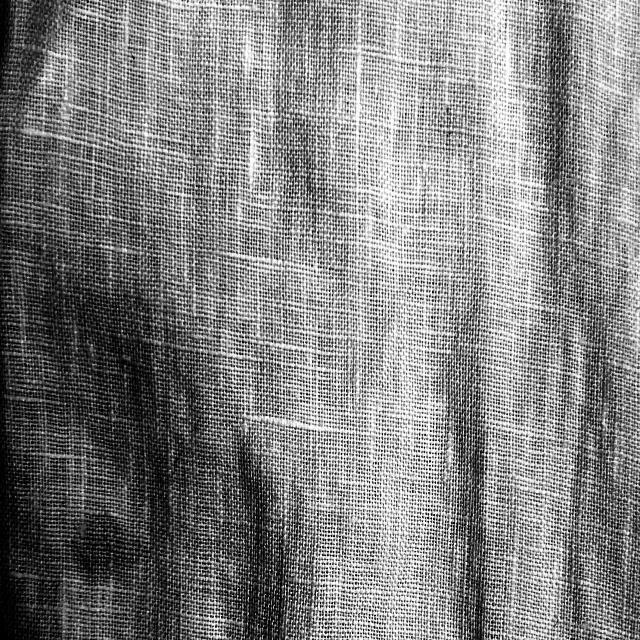Color_defect: (418, 62, 492, 182), (66, 498, 150, 602)
